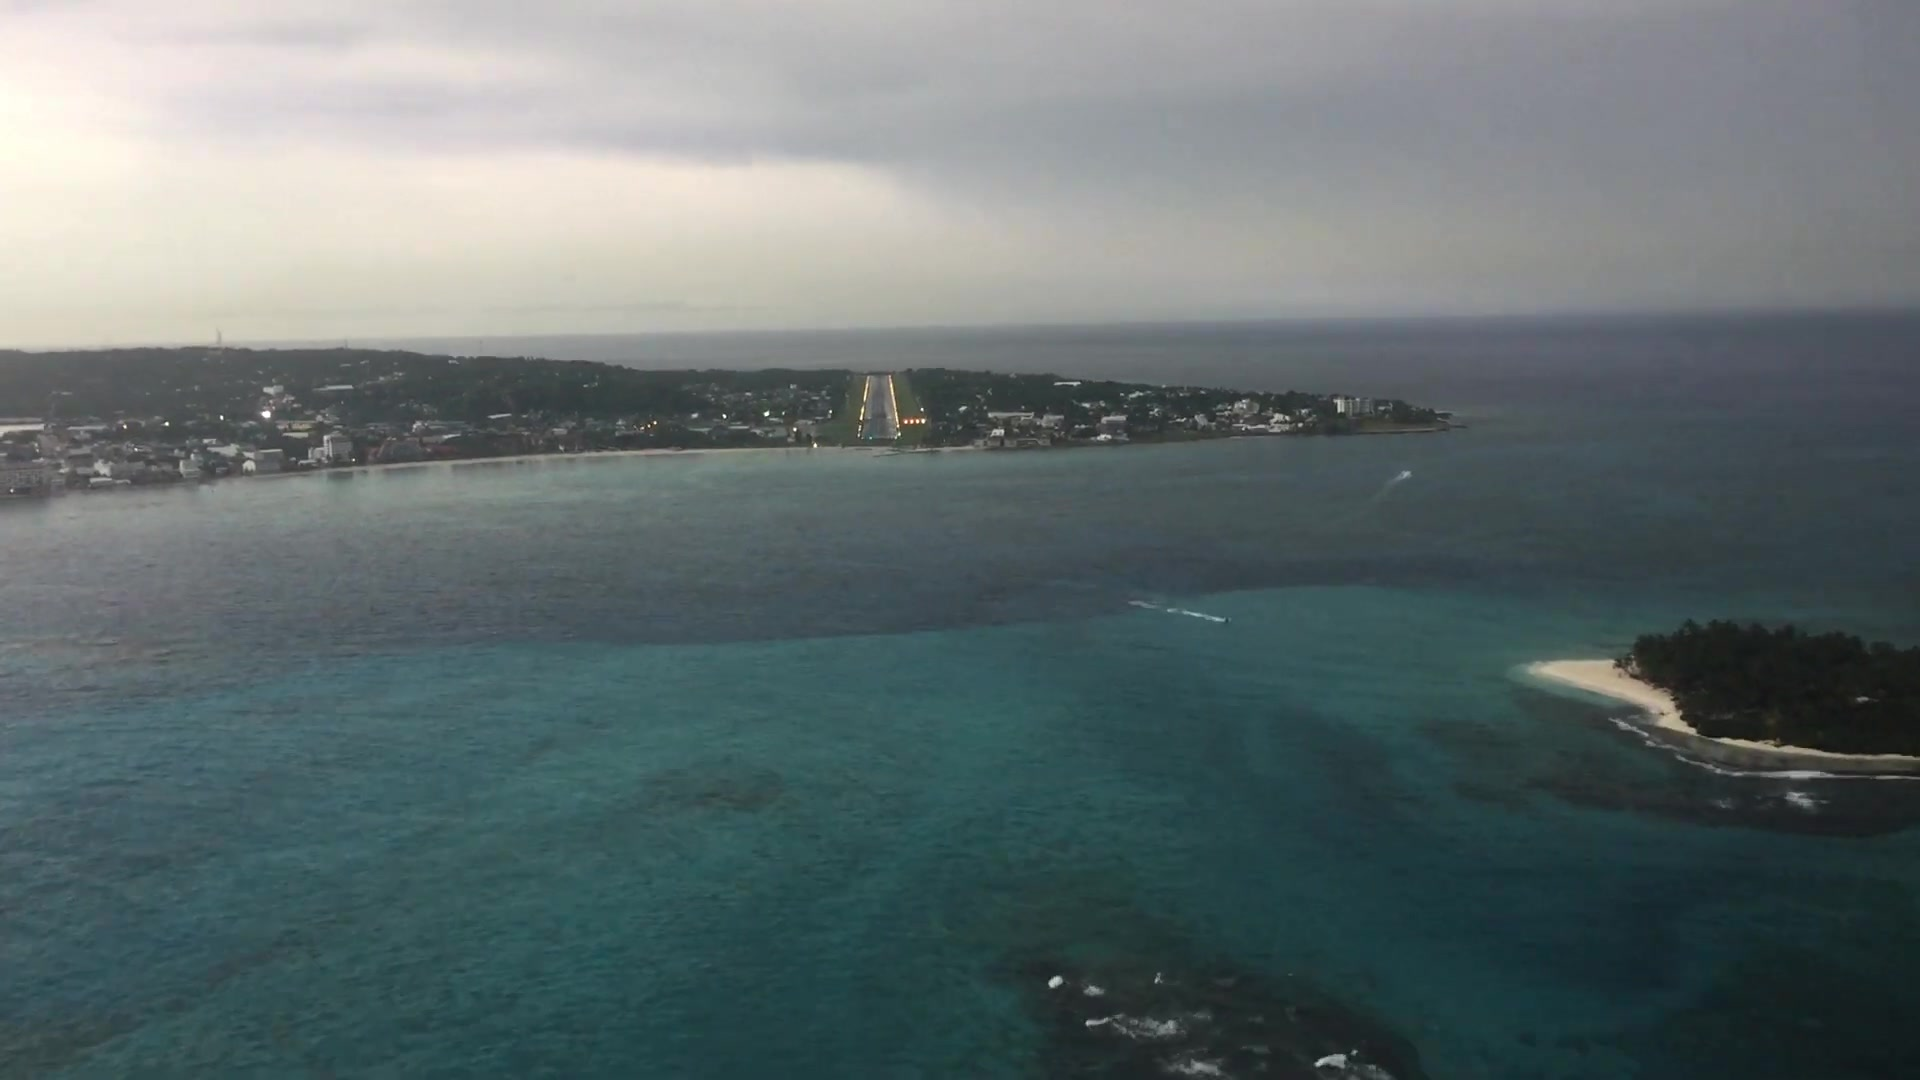runway: (855, 372, 903, 442)
